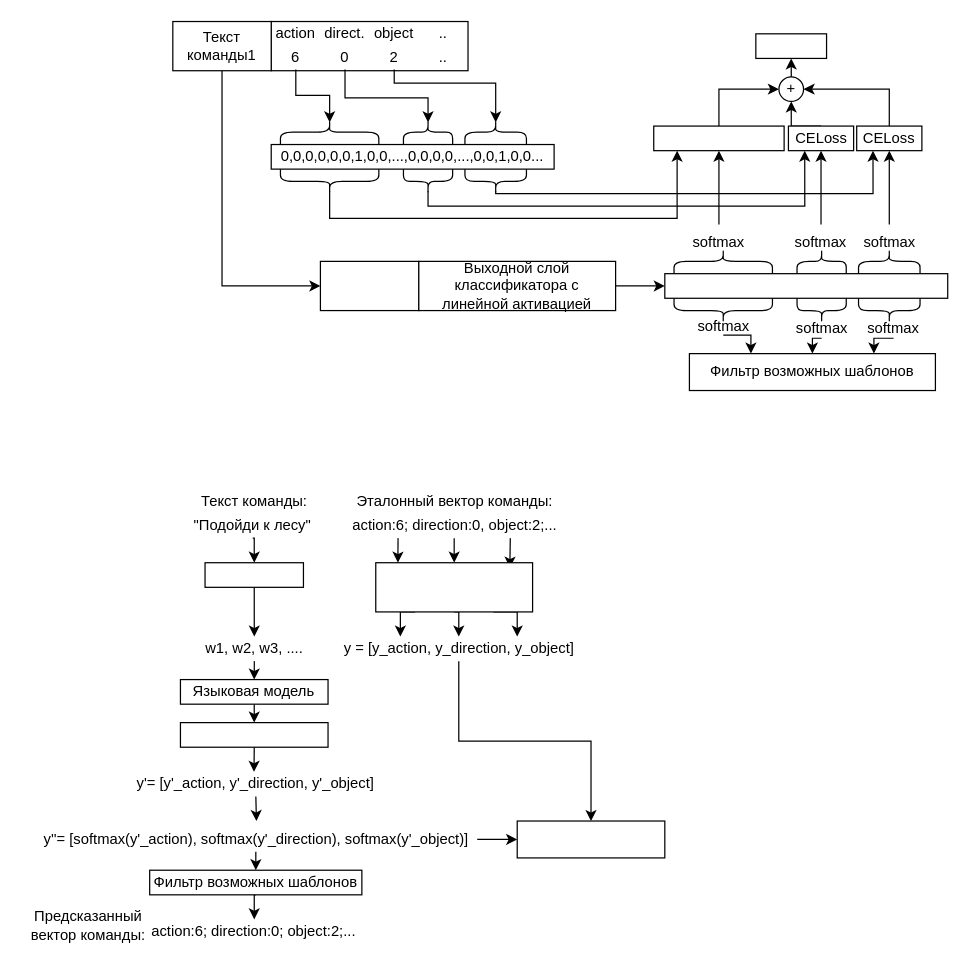
Some shapes in this 970 by 966 pixel diagram are drawn without their labels. Here are the shapes that lost their labels. From the top down, the centre of each, then its label:
At point (791, 45): "Total loss".
At point (718, 138): "CrossEntropyLoss".
At point (369, 285): "Нейросетевая языковая модель".
At point (806, 285): "Выходной вектор линейного слоя".
At point (253, 574): "Токенизатор".
At point (454, 586): "OneHot кодироваие действий и атрибутов".
At point (253, 734): "Классификатор".
At point (590, 839): "Расчет функции потерь".
